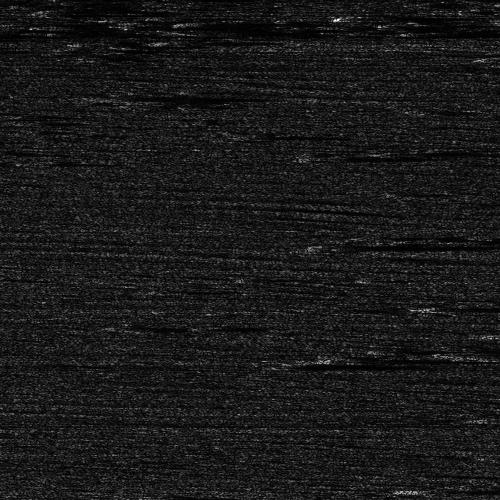rock: (375, 349, 500, 362), (70, 90, 153, 101), (277, 243, 370, 250), (416, 301, 469, 308), (400, 486, 473, 491), (183, 18, 214, 23), (135, 40, 176, 43), (362, 149, 403, 152), (286, 362, 307, 365)
shadow: (112, 90, 254, 101), (324, 243, 480, 250), (199, 18, 386, 23), (0, 29, 122, 36), (297, 362, 500, 365), (459, 349, 500, 362), (329, 355, 500, 358), (443, 301, 500, 308), (383, 149, 500, 152), (437, 486, 500, 491), (156, 40, 229, 43)
